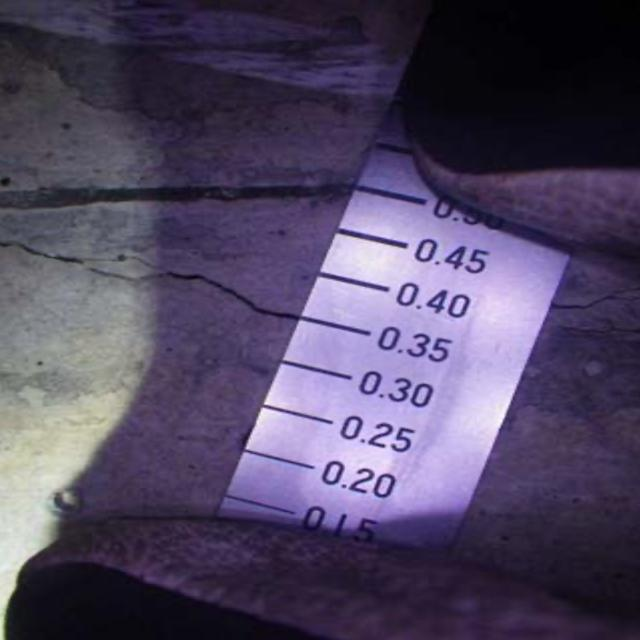crack: (6, 233, 297, 333), (553, 274, 640, 353)
